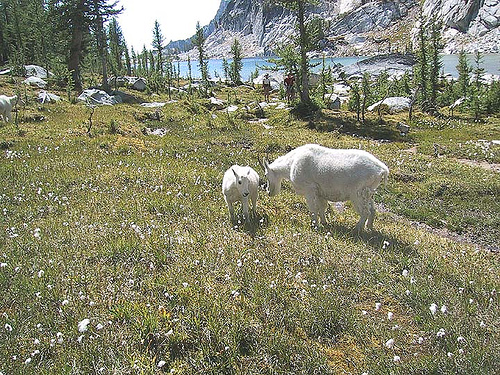goat: (262, 142, 391, 236), (220, 163, 260, 227), (1, 92, 25, 123)
